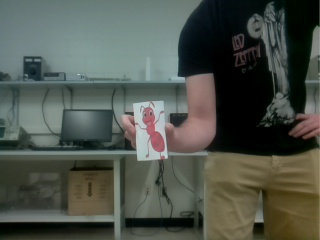Happy: (134, 101, 166, 161)
